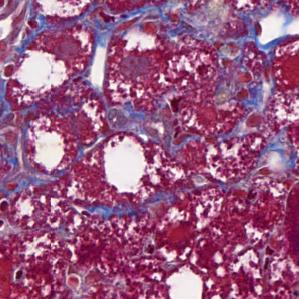steatosis: (101, 135, 150, 194), (15, 48, 68, 96), (33, 123, 67, 175)
